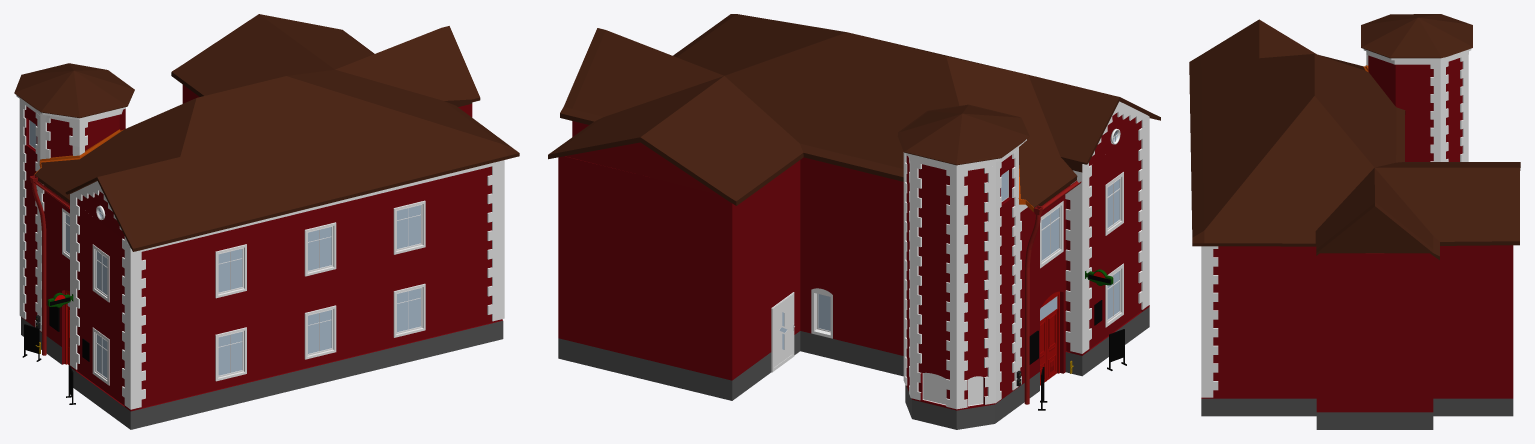
The model's file is CervenyHradek.glb.
3 renders of one model, left to right at view 1: azimuth 30°, elevation 25°; view 2: azimuth 150°, elevation 25°; view 3: azimuth 270°, elevation 25°, orthographic. The views are drawn at different scales.
Visible parts, largest first — view 1: červený hrádek, střecha, Cylinder.002; view 2: červený hrádek, střecha, Cylinder.002; view 3: červený hrádek, střecha.
Boxes of the visible parts, box(x1,y1,x2,y2) form: červený hrádek: box(14, 63, 504, 429); střecha: box(34, 14, 519, 251); Cylinder.002: box(30, 175, 69, 355); červený hrádek: box(558, 104, 1149, 429); střecha: box(548, 14, 1160, 211); Cylinder.002: box(1024, 180, 1081, 404); červený hrádek: box(1201, 14, 1513, 429); střecha: box(1189, 19, 1520, 260).
Size of the model in its own units: 3.38 by 1.96 by 2.34.
